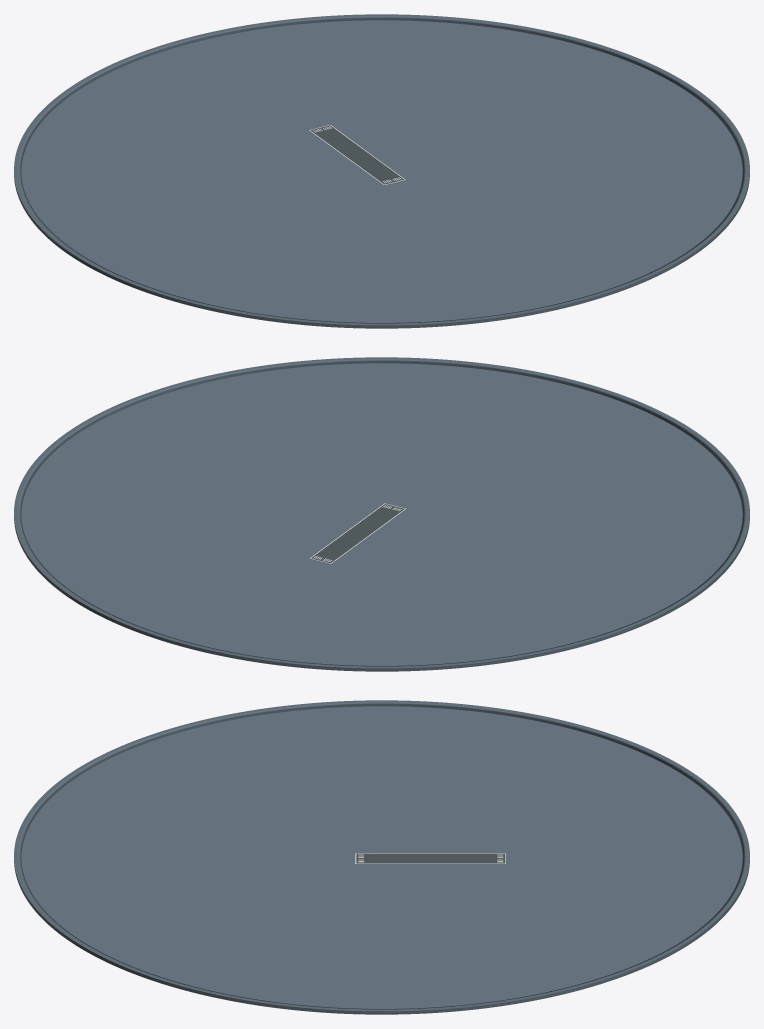
The model's file is GroundRunway.FBX.
The picture shows the model from 3 angles, top to bottom: view 1: azimuth 30°, elevation 25°; view 2: azimuth 150°, elevation 25°; view 3: azimuth 270°, elevation 25°; orthographic projection.
Parts seen in each view (by area): view 1: GroundRunway, GroundRunwayAsphalt; view 2: GroundRunway, GroundRunwayAsphalt; view 3: GroundRunway, GroundRunwayAsphalt.
Boxes of the visible parts, x1,y1,x2,y2 form: GroundRunway: (14,14,749,328); GroundRunwayAsphalt: (310,125,404,184); GroundRunway: (14,357,749,671); GroundRunwayAsphalt: (311,504,404,563); GroundRunway: (14,700,749,1014); GroundRunwayAsphalt: (356,853,504,863).
Size of the model in its own units: 140285 by 689 by 140285.
